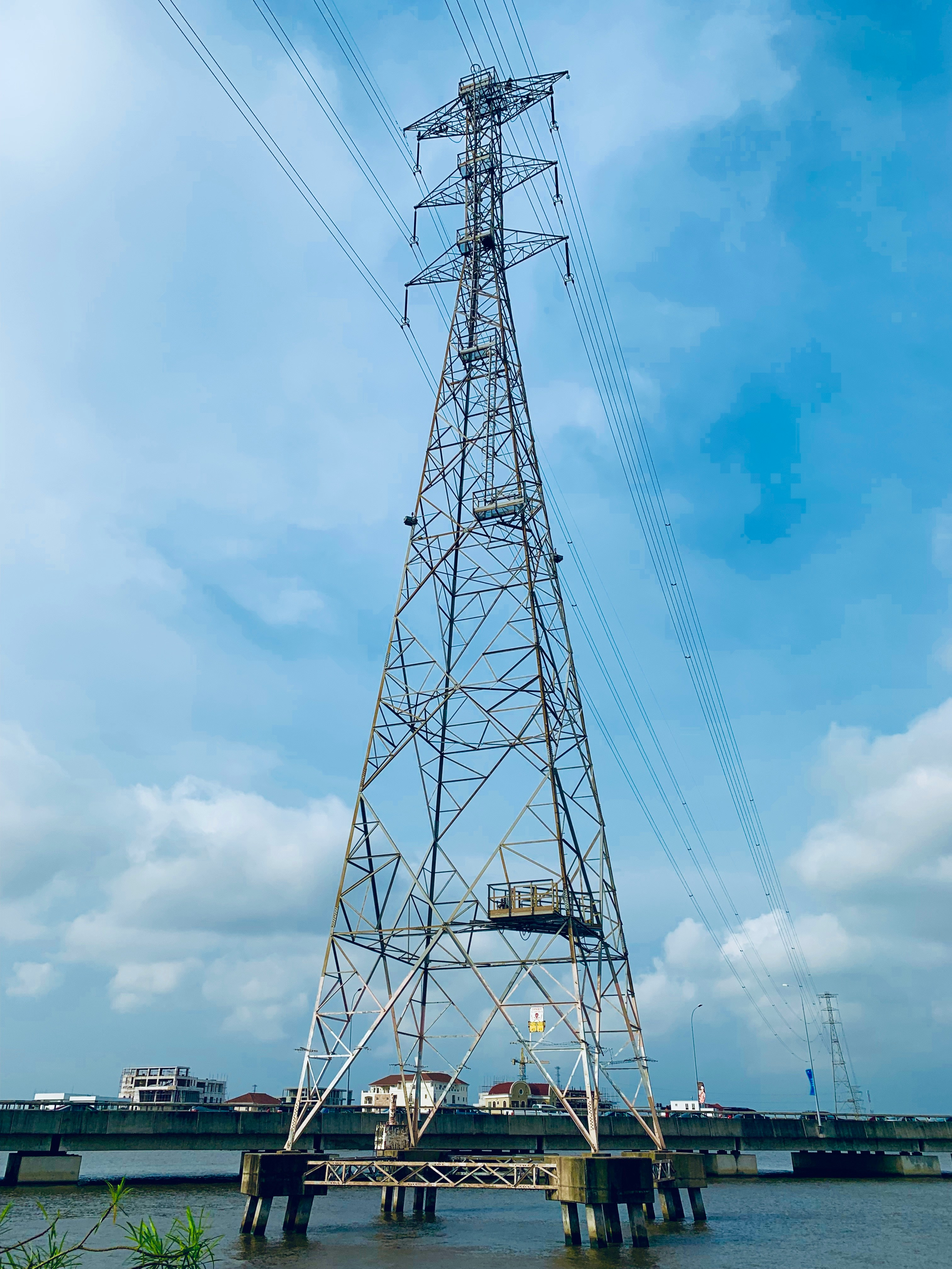insulator: (562, 234, 576, 285), (412, 131, 426, 174), (547, 86, 558, 138), (402, 284, 414, 330), (411, 203, 423, 245), (553, 159, 561, 213)
